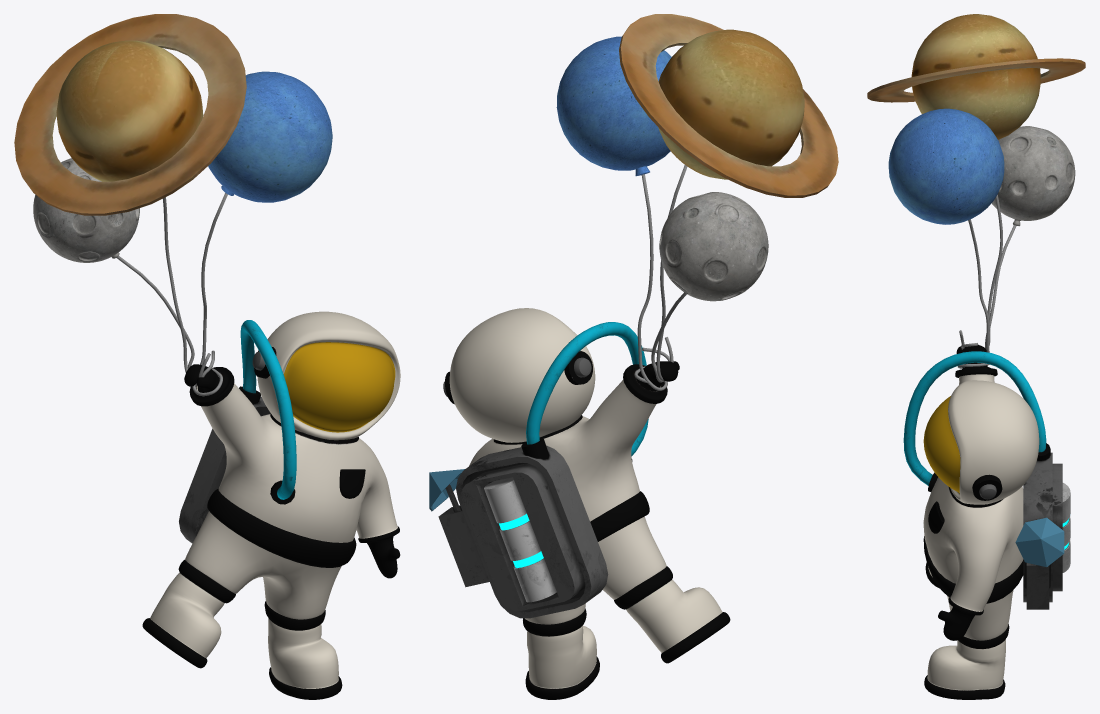
File: astronaut.glb
The picture shows the model from 3 angles, left to right: view 1: azimuth 30°, elevation 25°; view 2: azimuth 150°, elevation 25°; view 3: azimuth 270°, elevation 25°; orthographic projection. The views are drawn at different scales.
Visible parts, largest first — view 1: Sphere, Cube.001, Cube, Sphere.002, Cube.002, Sphere.001, Cube.004, NurbsPath, Cube.003, NurbsPath.001, Cube.005; view 2: Sphere, Cube.003, Cube, Cube.001, Cube.002, Sphere.002, Sphere.001, Cylinder.002, NurbsPath, NurbsPath.001, Cube.004, Cylinder.001 (+1 smaller); view 3: Sphere, Cube, Cube.001, Sphere.002, Sphere.001, Cube.002, Cube.003, NurbsPath, Cone, NurbsPath.001, Cube.004, Cylinder.002 (+2 smaller).
Part boxes in pixels (<box>): Sphere: <box>14,14,246,215</box>; Cube.001: <box>185,367,399,619</box>; Cube: <box>184,311,400,578</box>; Sphere.002: <box>208,71,332,202</box>; Cube.002: <box>142,559,342,699</box>; Sphere.001: <box>33,158,139,262</box>; Cube.004: <box>207,488,356,567</box>; NurbsPath: <box>240,320,296,499</box>; Cube.003: <box>179,396,270,543</box>; NurbsPath.001: <box>116,193,227,396</box>; Cube.005: <box>339,469,365,498</box>; Sphere: <box>619,14,838,197</box>; Cube.003: <box>438,445,608,618</box>; Cube: <box>449,308,679,442</box>; Cube.001: <box>469,364,667,624</box>; Cube.002: <box>523,566,730,699</box>; Sphere.002: <box>556,36,671,176</box>; Sphere.001: <box>659,192,768,301</box>; Cylinder.002: <box>484,477,556,602</box>; NurbsPath: <box>526,322,648,456</box>; NurbsPath.001: <box>634,165,687,390</box>; Cube.004: <box>590,491,649,541</box>; Cylinder.001: <box>443,351,592,404</box>; Sphere: <box>867,14,1085,139</box>; Cube: <box>923,345,1039,640</box>; Cube.001: <box>923,366,1023,640</box>; Sphere.002: <box>888,108,1004,224</box>; Sphere.001: <box>991,126,1075,226</box>; Cube.002: <box>924,562,1009,699</box>; Cube.003: <box>1023,452,1062,609</box>; NurbsPath: <box>903,351,1046,485</box>; Cone: <box>1015,517,1064,567</box>; NurbsPath.001: <box>957,194,1016,368</box>; Cube.004: <box>923,536,1023,603</box>; Cylinder.002: <box>1062,483,1070,572</box>.
Size of the model in its own units: 1008 by 1796 by 593.
15 materials, 11 textured.
